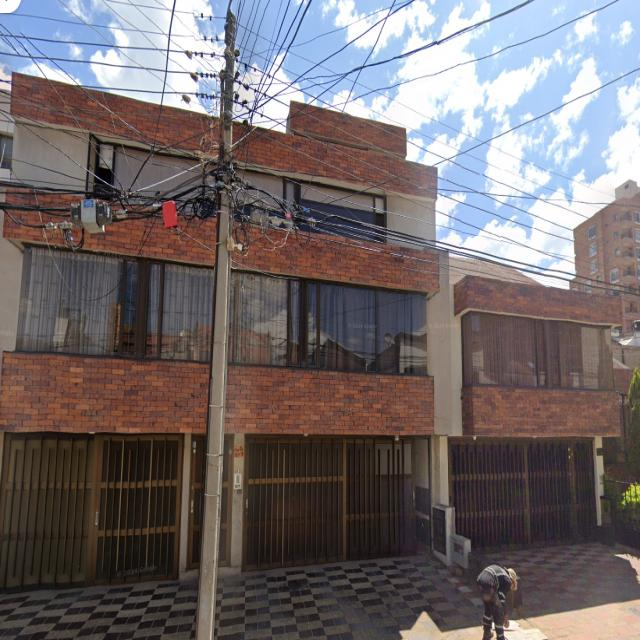Casa: (0, 74, 620, 588)
